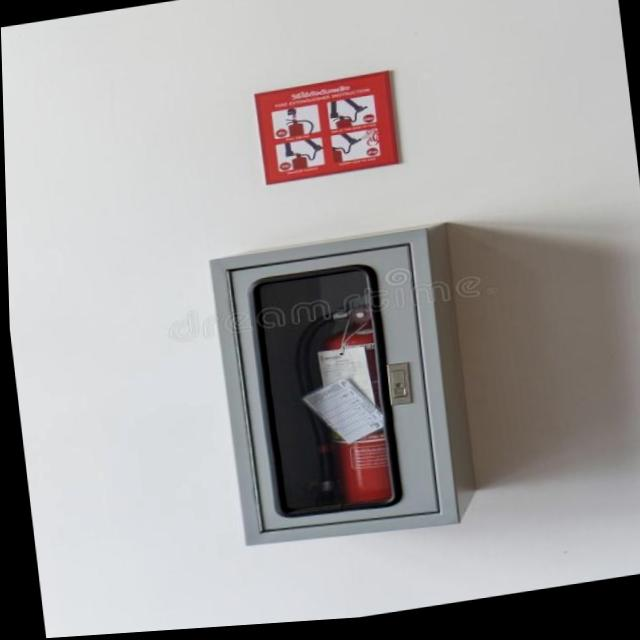FireExtinguisher: (277, 272, 431, 539)
